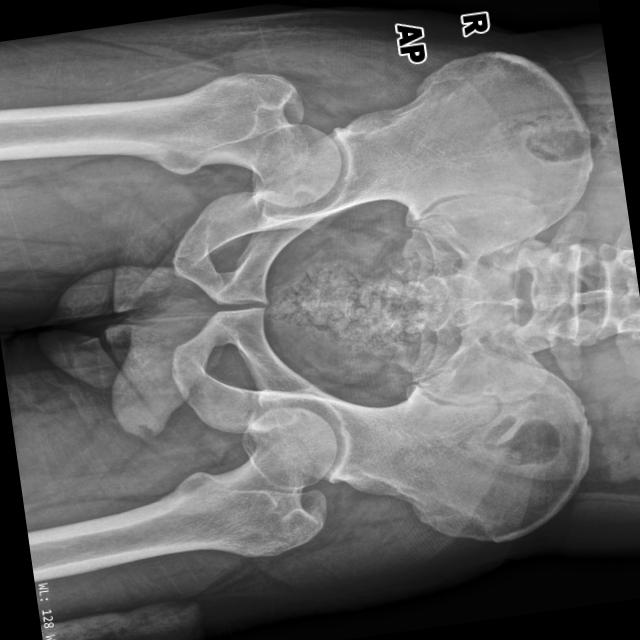normal-left: (107, 407, 336, 566)
normal-right: (70, 73, 341, 207)
